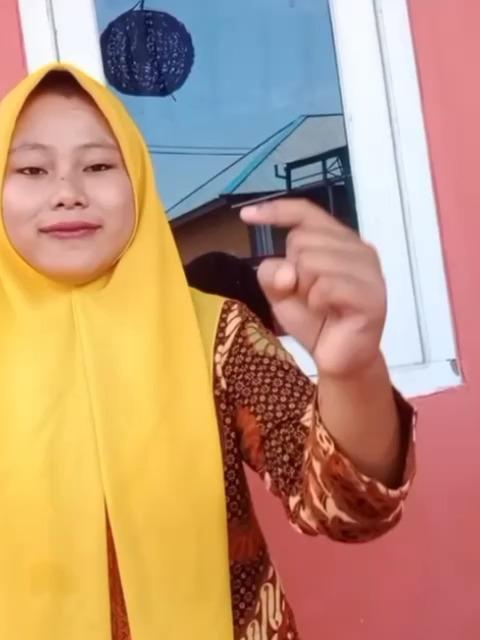X: (232, 196, 398, 384)
